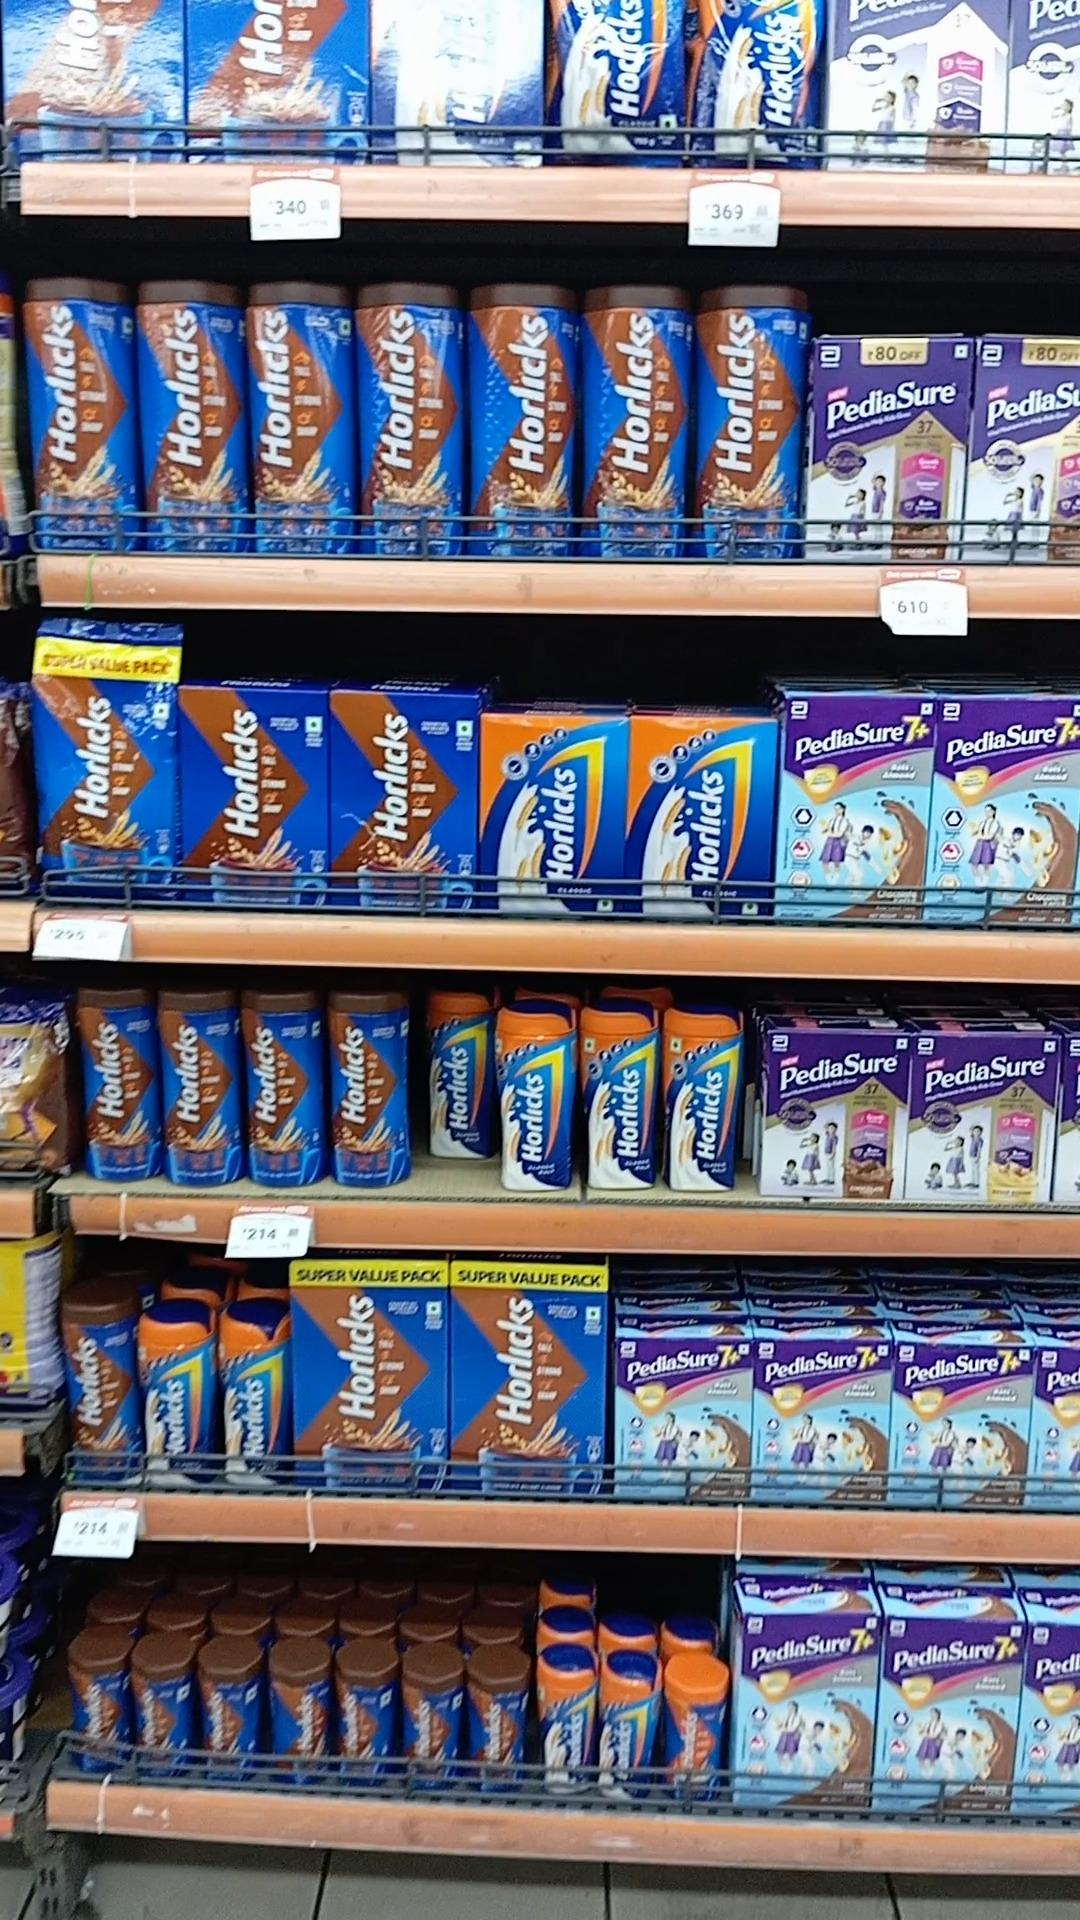HORLICK_CHOCOLATE_1_KG_JAR: (472, 282, 578, 564), (29, 277, 135, 545), (696, 285, 799, 555), (144, 277, 244, 550), (252, 281, 351, 551), (588, 282, 683, 558), (364, 281, 462, 547)
HORLICK_CHOCOLATE_1_KG_PACK: (451, 1254, 607, 1501)
HORLICK_CHOCOLATE_200_G_JAR: (67, 1627, 128, 1778), (132, 1638, 194, 1782), (200, 1639, 261, 1782), (401, 1650, 463, 1785), (469, 1648, 526, 1796), (338, 1644, 394, 1787), (272, 1646, 328, 1774)
HORLICK_CHOCOLATE_500_G_JAR: (328, 985, 414, 1183), (74, 982, 157, 1183), (160, 986, 235, 1191), (245, 992, 322, 1192), (63, 1292, 132, 1486)
HORLICK_CHOCOLATE_500_G_PACK: (179, 683, 324, 906), (332, 687, 473, 913)
HORLICK_CHOCOLATE_750_G_POUCH: (34, 621, 170, 907)
HORLICK_CLASSIC_MALT_200_G_JAR: (597, 1656, 655, 1795), (537, 1646, 591, 1789)
HORLICK_CLASSIC_MALT_500_G_JAR: (497, 1006, 575, 1192), (662, 1007, 736, 1195), (579, 1002, 655, 1182), (218, 1296, 289, 1489), (137, 1304, 212, 1477), (425, 994, 491, 1167)
HORLICK_CLASSIC_MALT_500_G_PACK: (481, 715, 620, 916), (634, 715, 769, 914)
PEDIASURE_7_PLUS_CHOCOLATE_400_G_PACK: (940, 687, 1080, 919), (786, 694, 922, 922), (742, 1613, 872, 1809), (887, 1613, 1007, 1811), (613, 1337, 752, 1502), (756, 1333, 889, 1503), (895, 1341, 1025, 1507)
PEDIASURE_CHOCOLATE_500_G_PACK: (818, 334, 957, 556), (766, 1022, 901, 1201)
PEDIASURE_VANILLA_500_G_PACK: (913, 1031, 1052, 1200)
